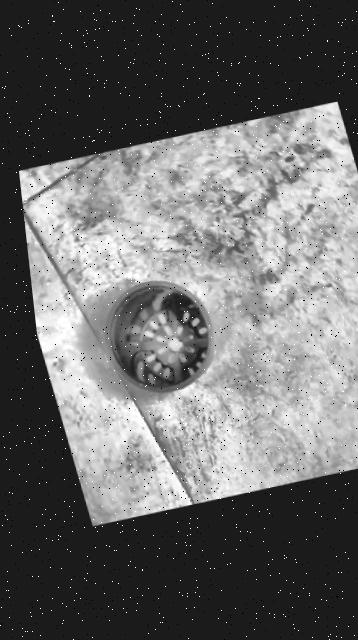pot: (90, 270, 228, 403)
